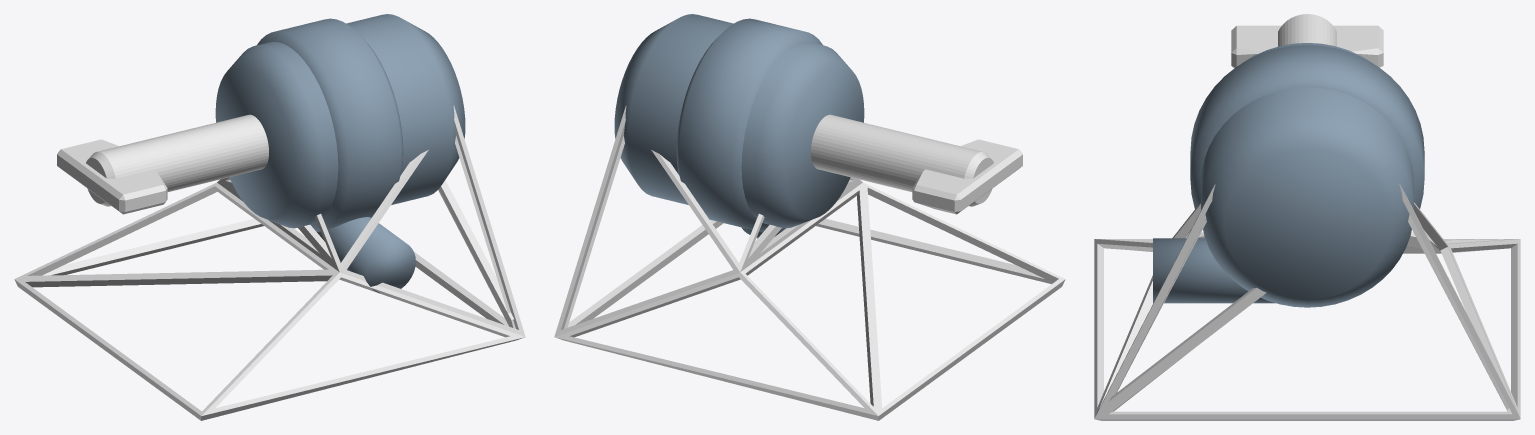
Rendered from armpivot.glb.
The picture shows the model from 3 angles, left to right: view 1: azimuth 30°, elevation 25°; view 2: azimuth 150°, elevation 25°; view 3: azimuth 270°, elevation 25°; orthographic projection. The views are drawn at different scales.
Visible parts, largest first — view 1: Pivotmotor, Truss, Insidepivot; view 2: Pivotmotor, Truss, Insidepivot; view 3: Pivotmotor, Truss, Insidepivot.
Part boxes in pixels (x1,y1,x2,y2): Pivotmotor: [215, 14, 465, 293]; Truss: [14, 106, 525, 420]; Insidepivot: [57, 114, 268, 214]; Pivotmotor: [614, 14, 864, 238]; Truss: [554, 106, 1065, 420]; Insidepivot: [811, 114, 1022, 214]; Pivotmotor: [1153, 43, 1424, 307]; Truss: [1094, 184, 1520, 420]; Insidepivot: [1231, 14, 1383, 68].
Size of the model in its own units: 1.06 by 0.7939 by 1.
